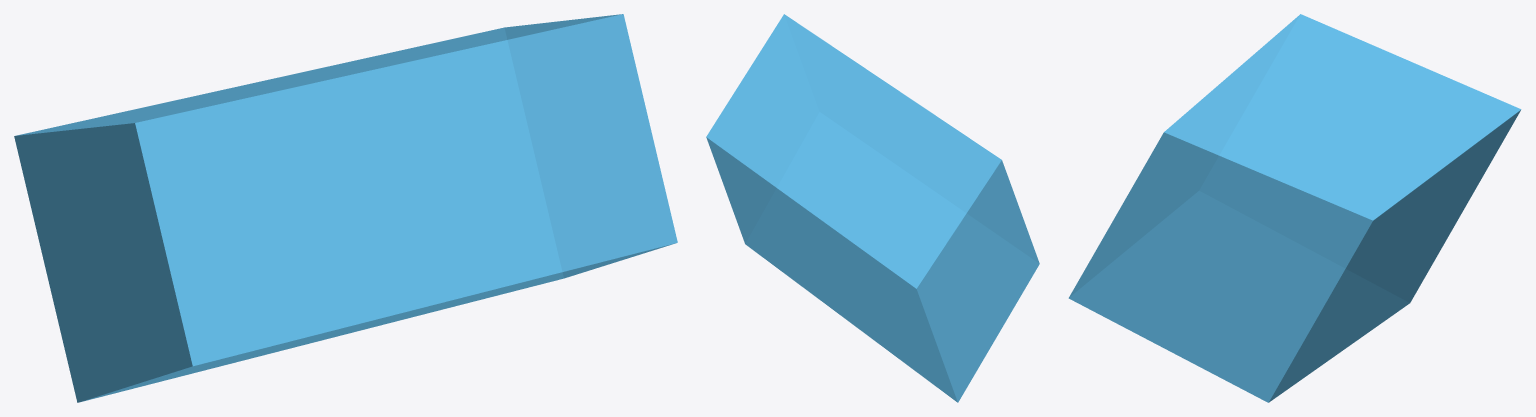
The model's file is Event_421278790_HErechit_26.fbx.
3 views of the same model, side by side, from view 1: azimuth 30°, elevation 25°; view 2: azimuth 150°, elevation 25°; view 3: azimuth 270°, elevation 25° (orthographic). The views are drawn at different scales.
Parts seen in each view (by area): view 1: Model; view 2: Model; view 3: Model.
Part boxes in pixels (bbox=[...]): Model: bbox=[14, 14, 677, 402]; Model: bbox=[706, 14, 1039, 402]; Model: bbox=[1068, 14, 1521, 402].
Bounding box in the file's own units: 0.706 × 0.6449 × 0.7677.
